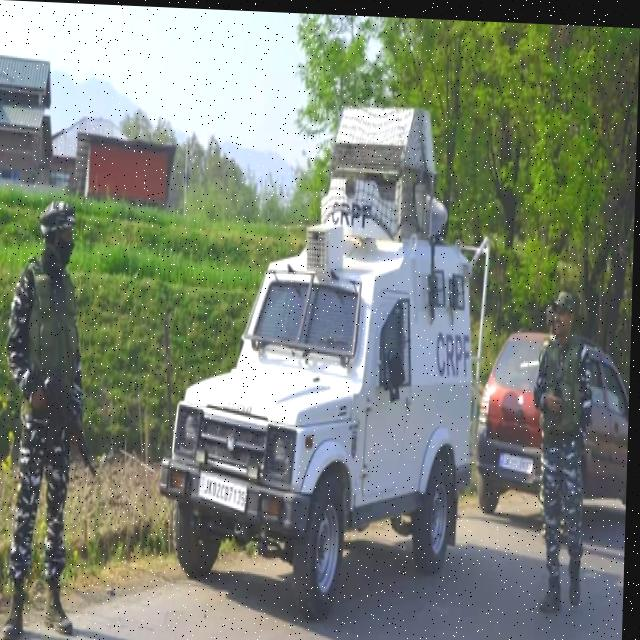plate: (196, 463, 251, 515), (499, 443, 539, 472)
